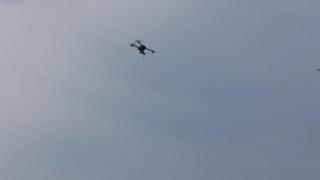UAV: (128, 40, 156, 61)
